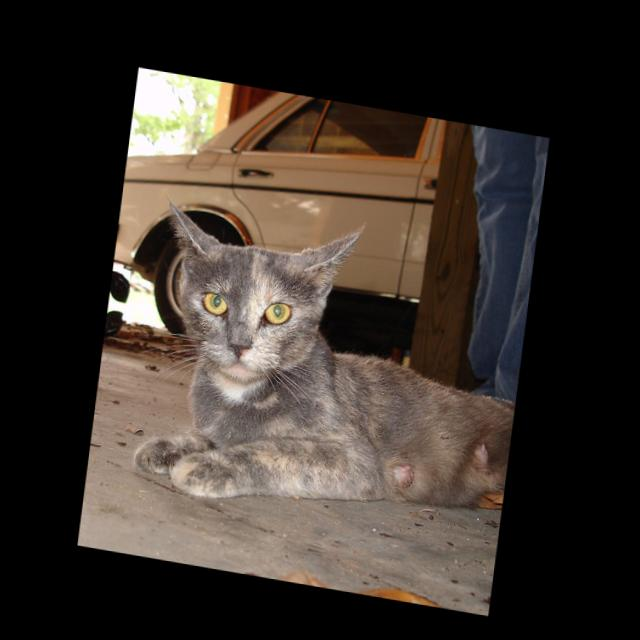animals: (155, 197, 362, 368)
